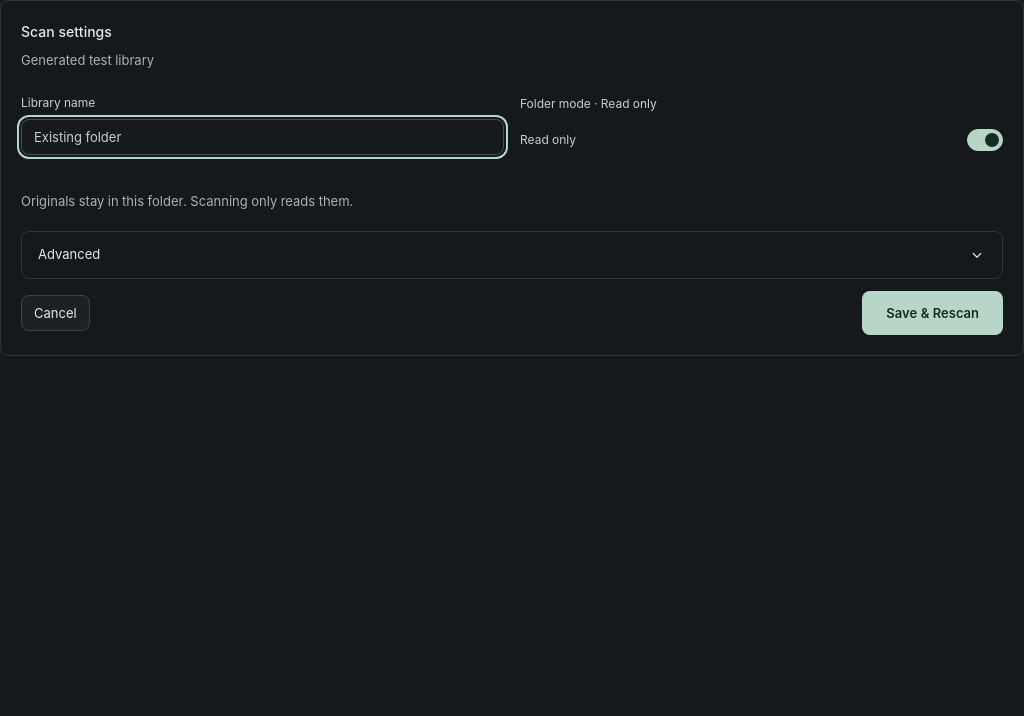
Test case: advanced folder setup › starts collapsed and retains values when Advanced is closed and reopened
Click the heading "Advanced". click: (69, 254)
box: top-left (38, 246), bottom-right (986, 264)
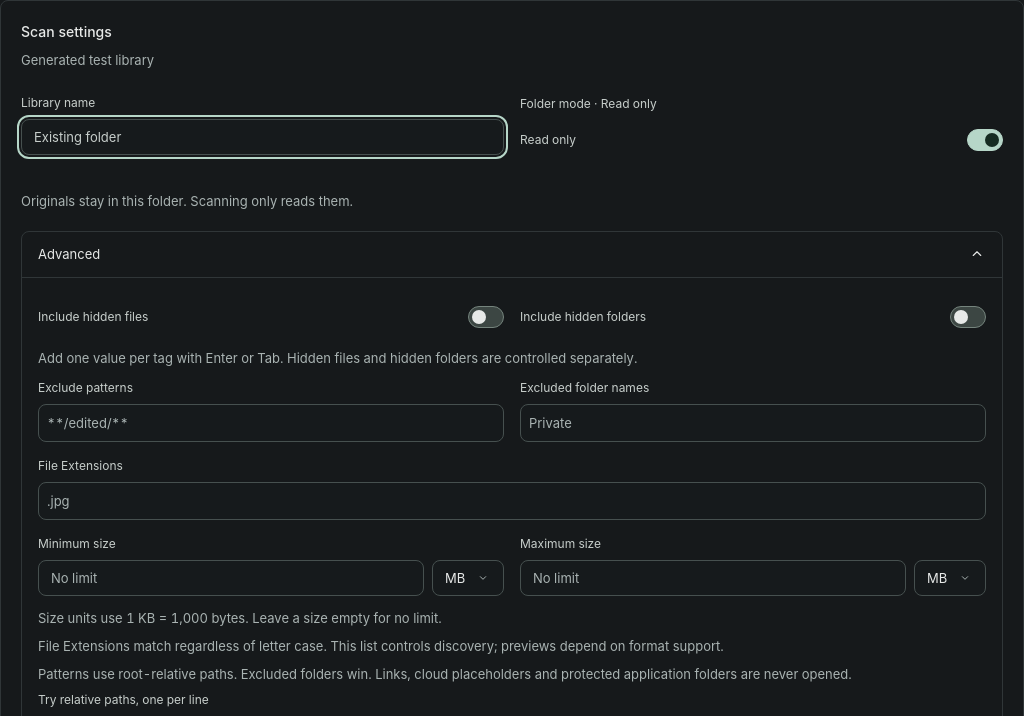
Type ".png" into the field labelled "File Extensions". click: (512, 501)
box: top-left (43, 487), bottom-right (981, 515)
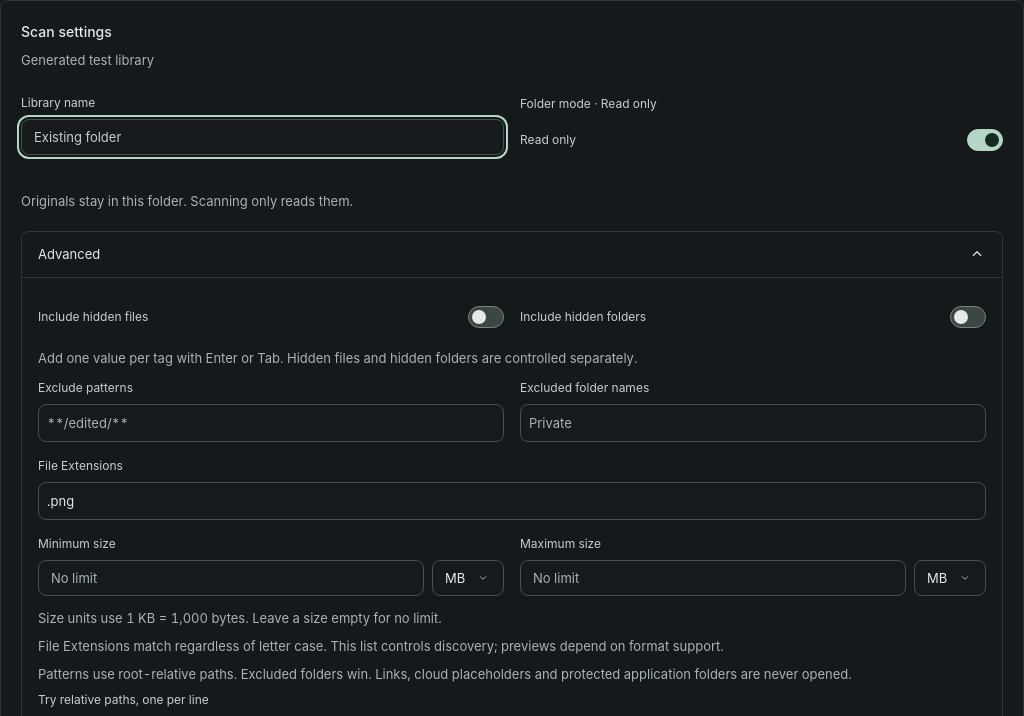
Press Enter in the field labelled "File Extensions", box top-left (43, 487), bottom-right (981, 515)
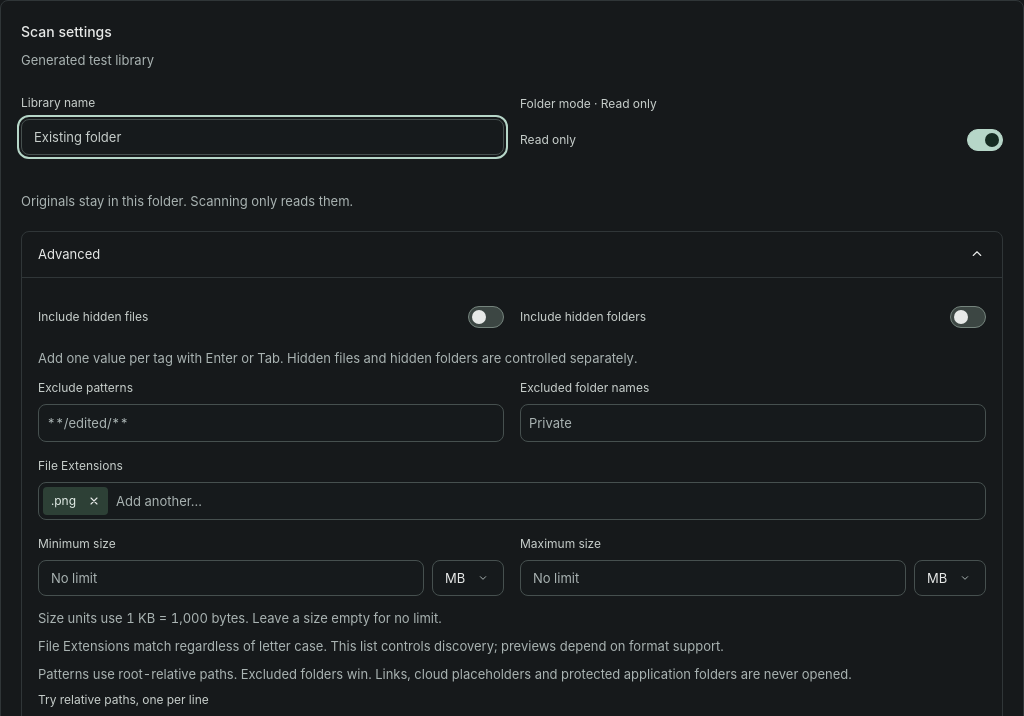
Click the heading "Advanced". click: (69, 254)
box: top-left (22, 232), bottom-right (1002, 278)
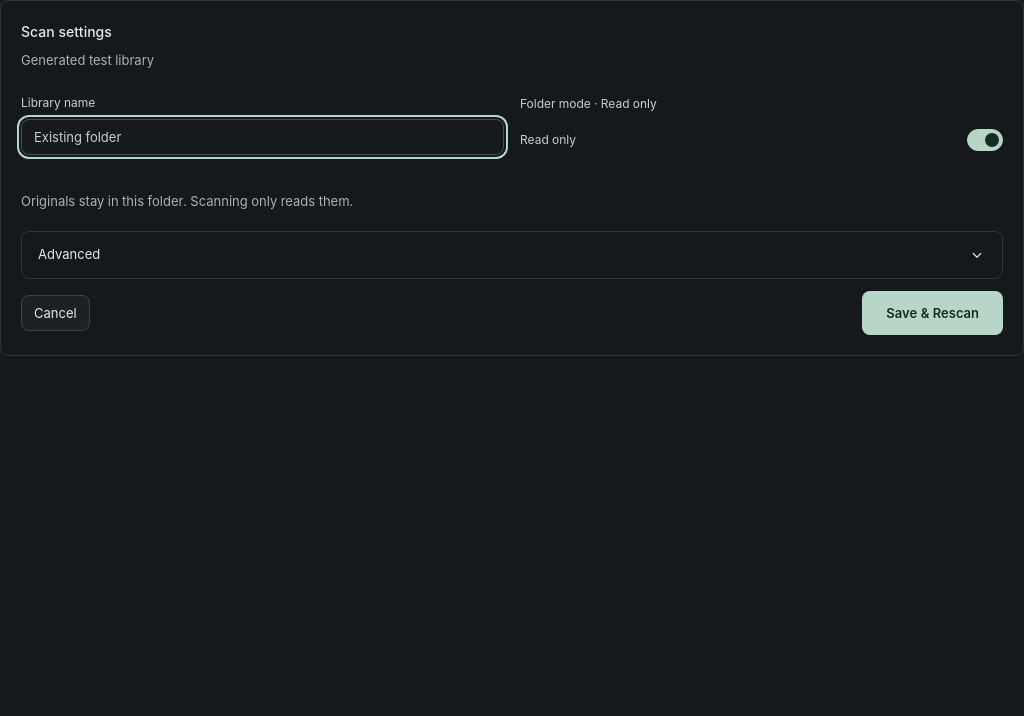
Expected: the text "Advanced" does not have attribute open, top-left (21, 231), bottom-right (1003, 279)
Click the heading "Advanced". click: (69, 254)
box: top-left (38, 246), bottom-right (986, 264)
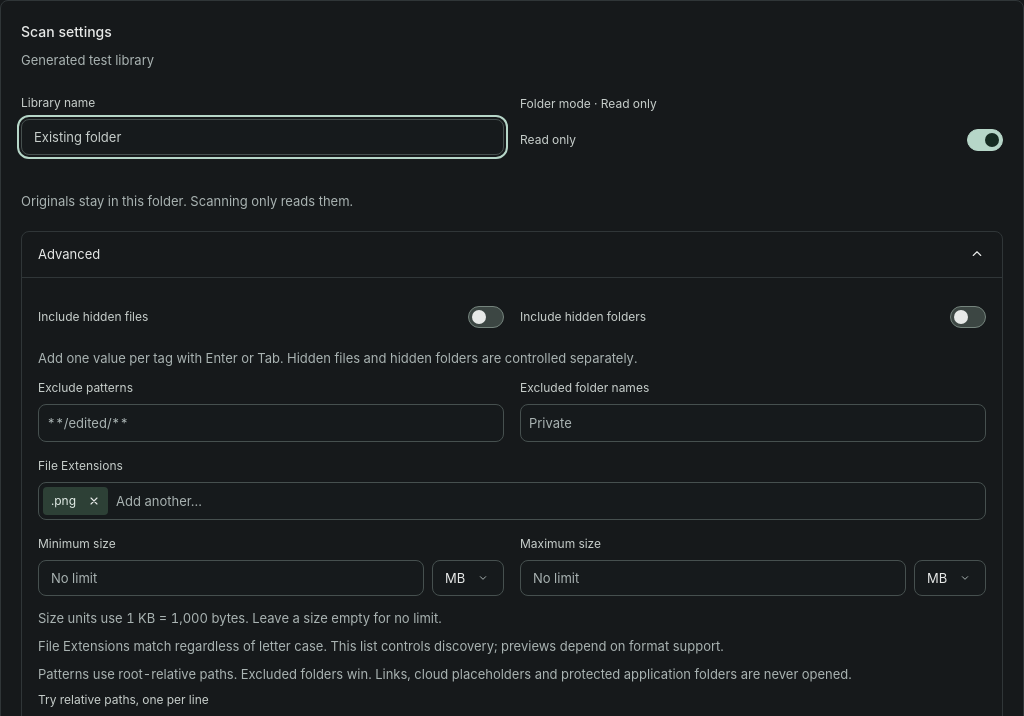
Expected: the button named "Remove .png from File Extensions" is shown, top-left (80, 487), bottom-right (108, 515)
